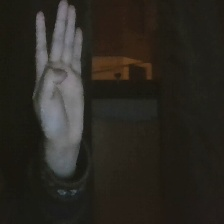B: (29, 1, 95, 152)
